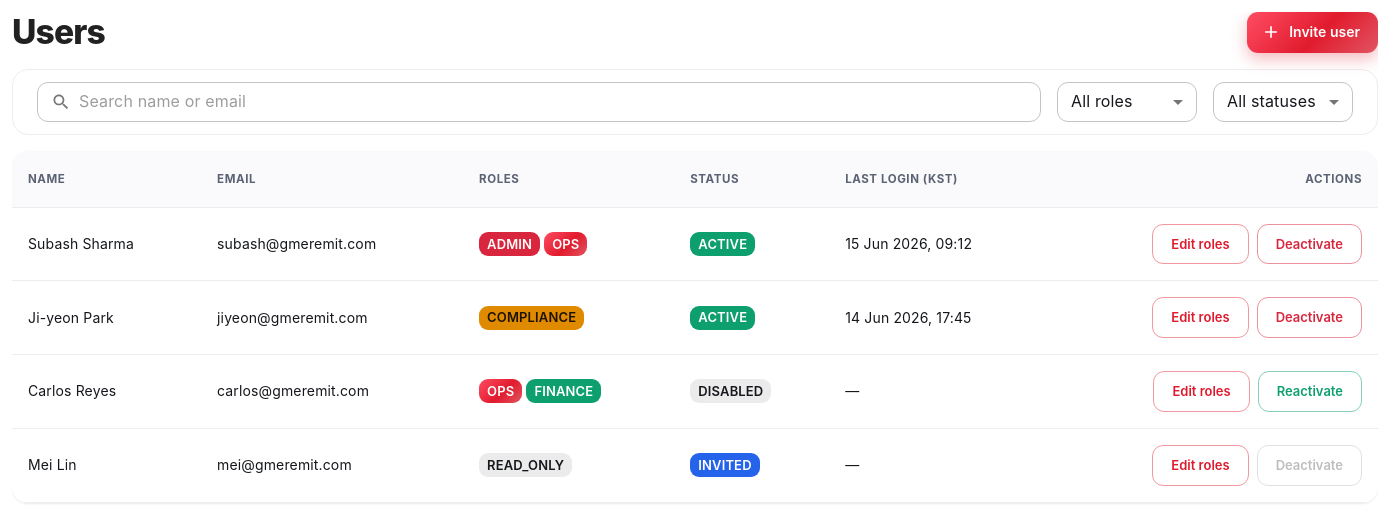
Scenario: UsersPage › search filters by name
The image size is (1390, 521).
In the field named "search users": [560, 102] box [79, 82, 1041, 122], type "mei"
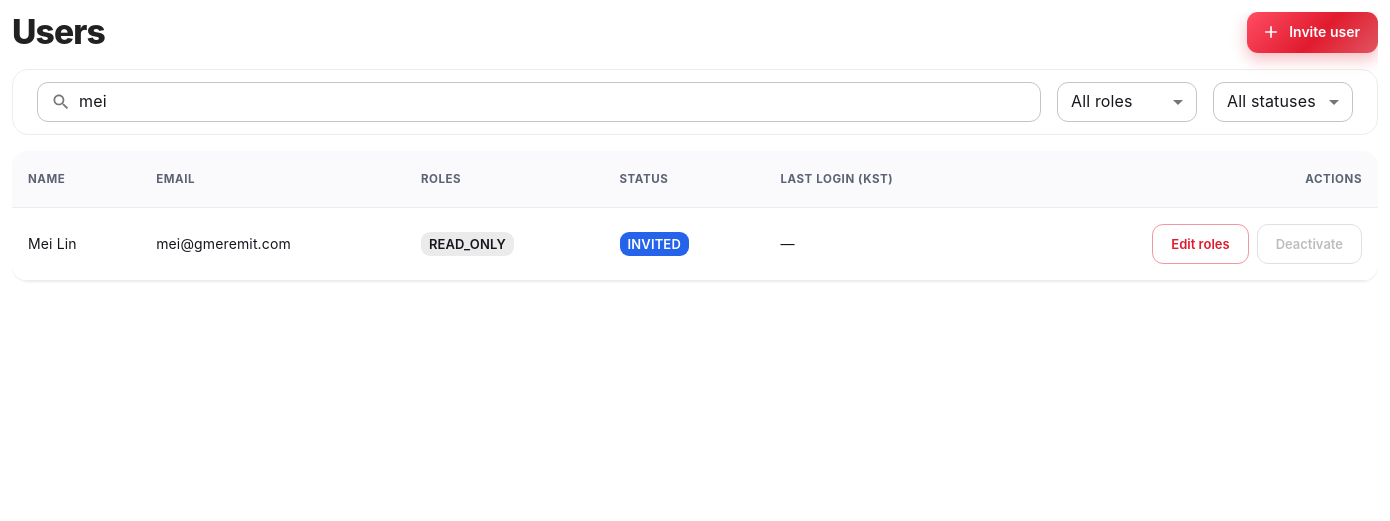
Check: the text "Mei Lin" is shown, box [12, 207, 140, 281]
Check: the text "Subash Sharma" is gone
